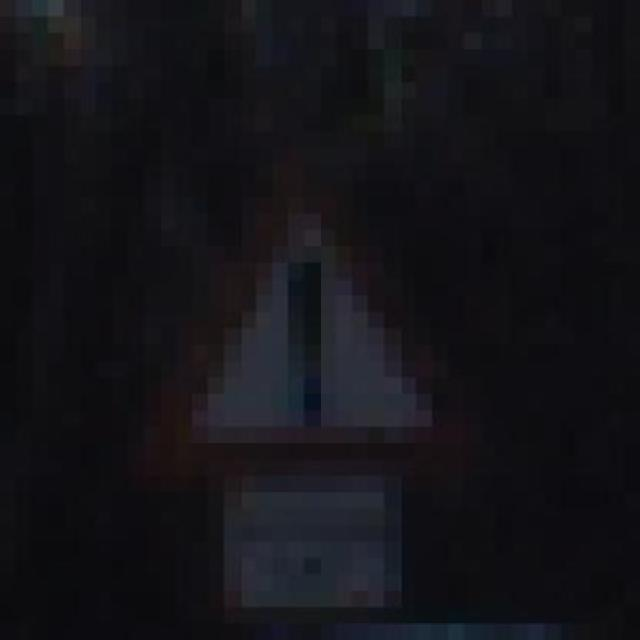Attention Please-: (111, 180, 528, 509)
